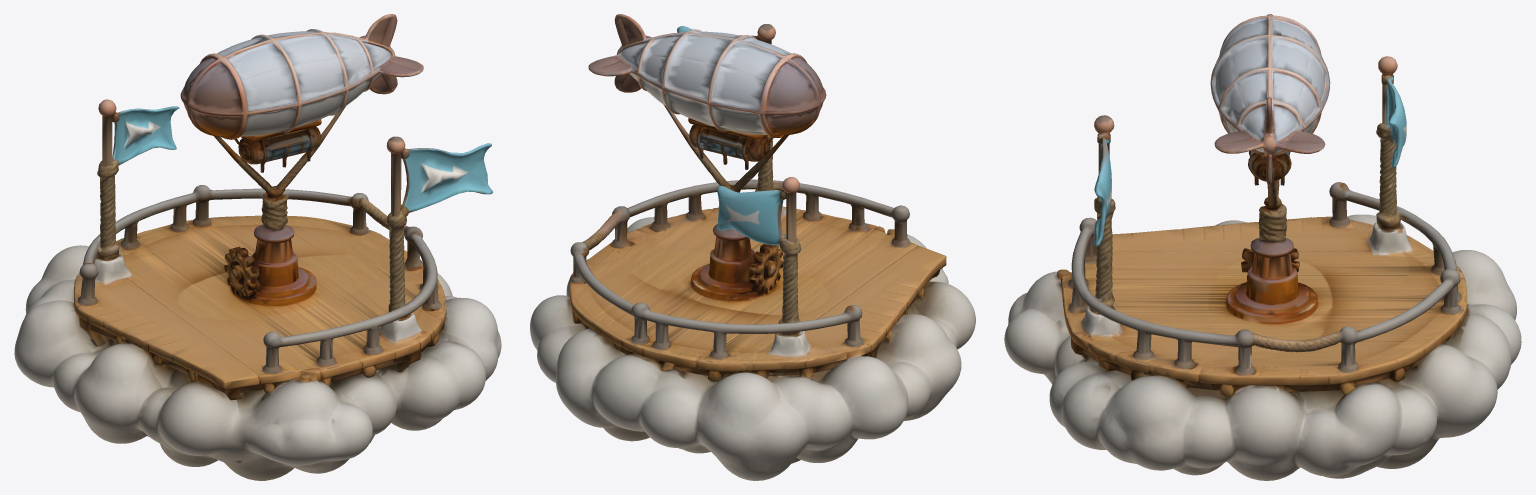
File: small-cloud-airship-1.glb
3 renders of one model, left to right at view 1: azimuth 30°, elevation 25°; view 2: azimuth 150°, elevation 25°; view 3: azimuth 270°, elevation 25°, orthographic. The views are drawn at different scales.
Parts seen in each view (by area): view 1: node_0; view 2: node_0; view 3: node_0.
Part boxes in pixels (box(x1,y1,x2,y2)): node_0: box(14, 14, 501, 480); node_0: box(530, 14, 975, 480); node_0: box(1004, 14, 1521, 480).
Bounding box in the file's own units: 0.9305 × 0.9162 × 1.01.
1 material, 1 textured.
